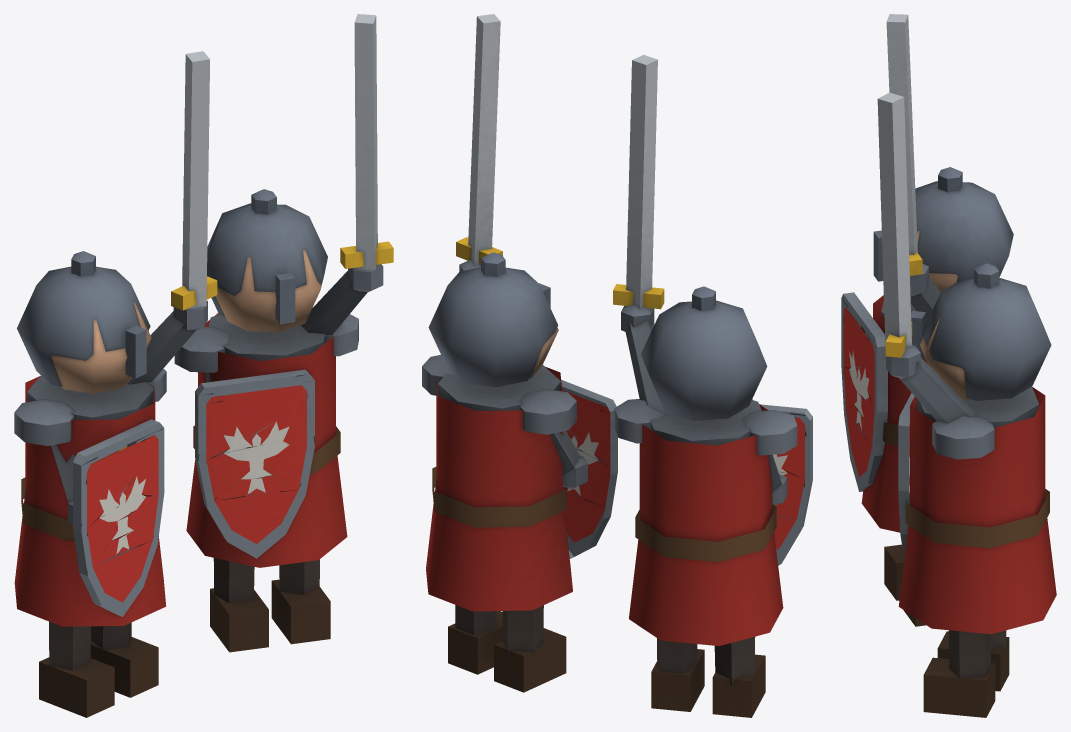
Rendered from sentry_dl3_red.glb.
The picture shows the model from 3 angles, left to right: view 1: azimuth 30°, elevation 25°; view 2: azimuth 150°, elevation 25°; view 3: azimuth 270°, elevation 25°; orthographic projection. The views are drawn at different scales.
Visible parts, largest first — view 1: sentry_dl3_red; view 2: sentry_dl3_red; view 3: sentry_dl3_red.
Part boxes in pixels (x1,y1,x2,y2): sentry_dl3_red: (14,14,393,717); sentry_dl3_red: (422,14,812,717); sentry_dl3_red: (841,14,1056,717).
Bounding box in the file's own units: 0.3402 × 0.5703 × 0.1787.
Materials: 1 (1 with a texture image).
